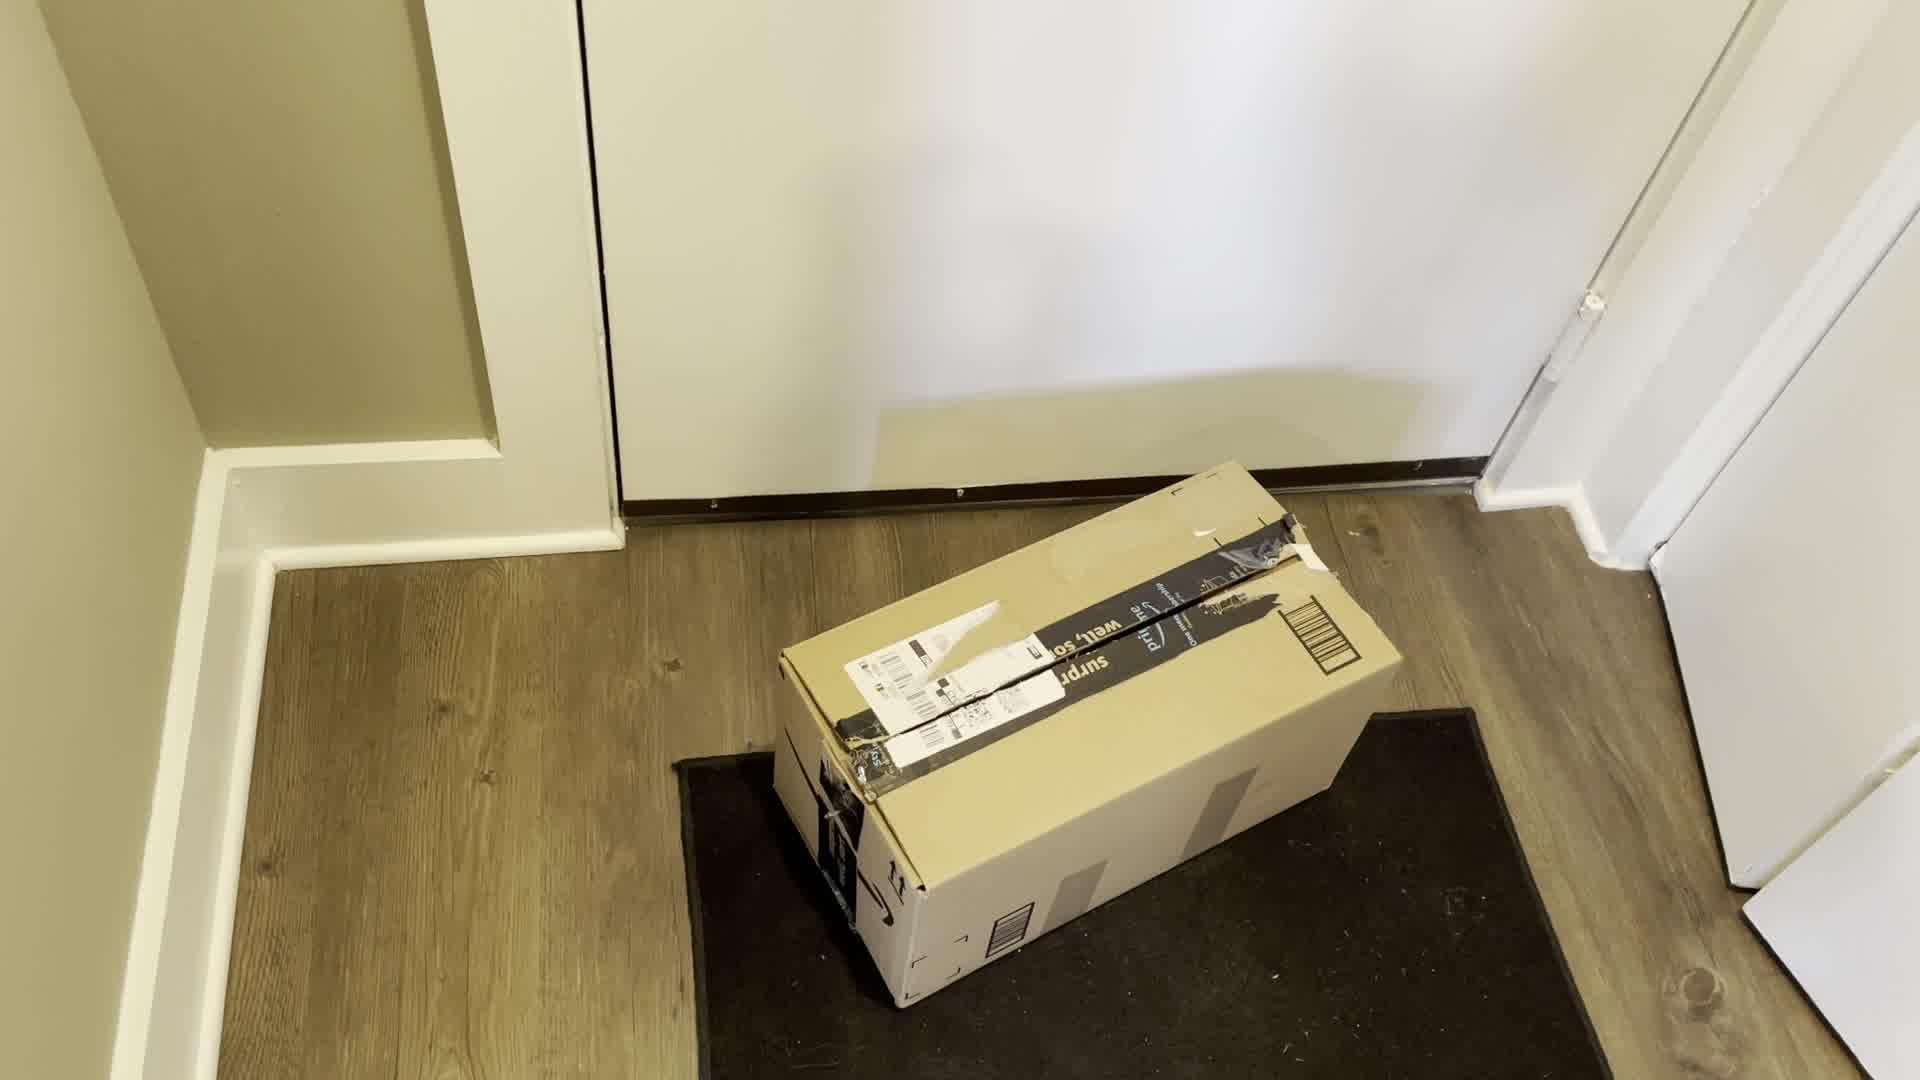box: (717, 488, 1472, 1001)
